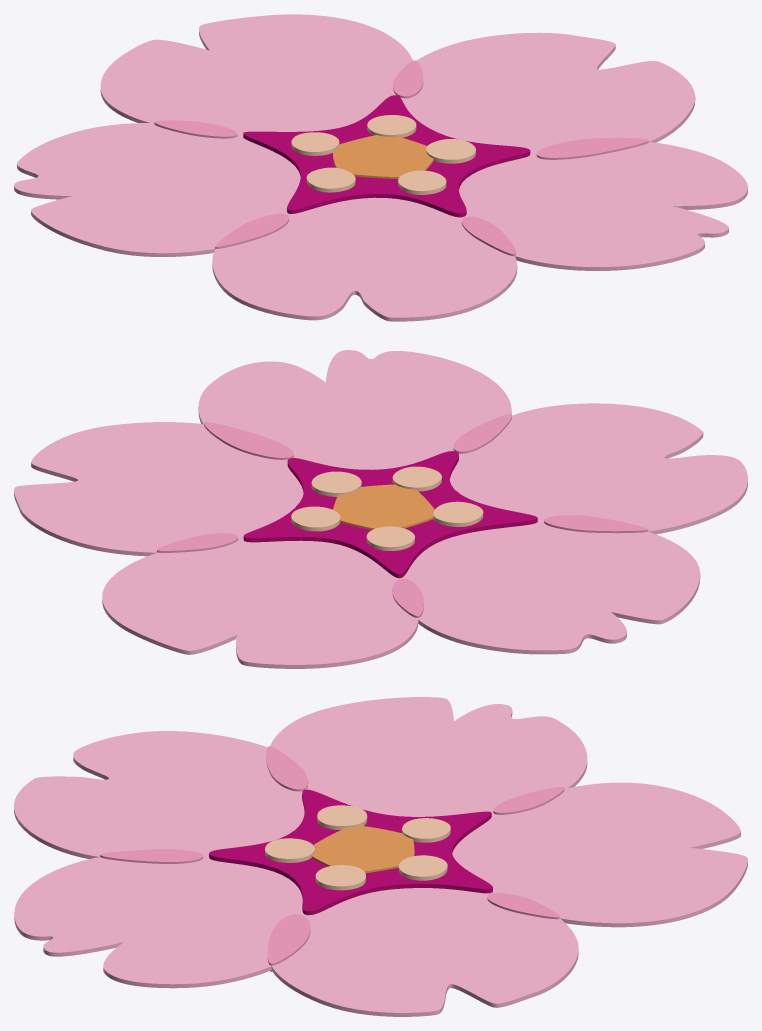
The model's file is emoji_u1f338.glb.
The picture shows the model from 3 angles, top to bottom: view 1: azimuth 30°, elevation 25°; view 2: azimuth 150°, elevation 25°; view 3: azimuth 270°, elevation 25°; orthographic projection. The views are drawn at different scales.
Visible parts, largest first — view 1: emoji_u1f338; view 2: emoji_u1f338; view 3: emoji_u1f338.
Part boxes in pixels (x1,y1,x2,y2): emoji_u1f338: (14,14,747,321); emoji_u1f338: (14,350,747,668); emoji_u1f338: (14,697,747,1016).
Size of the model in its own units: 0.0338 by 0.001 by 0.0332.
